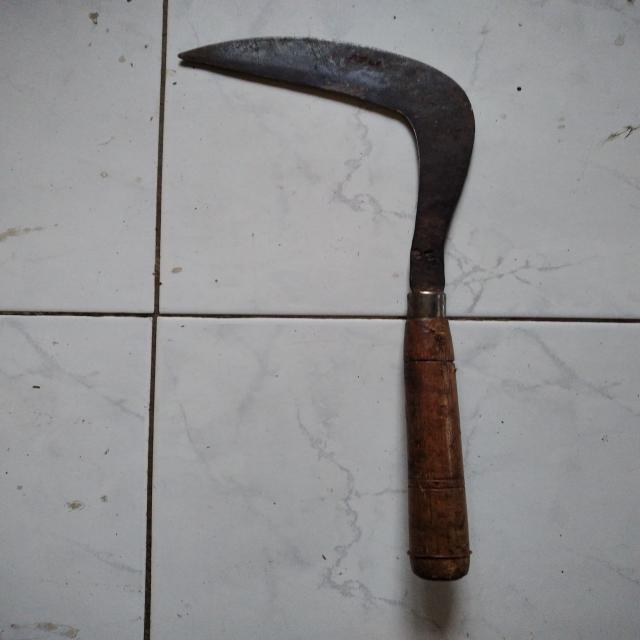Celurit: (179, 36, 479, 587)
